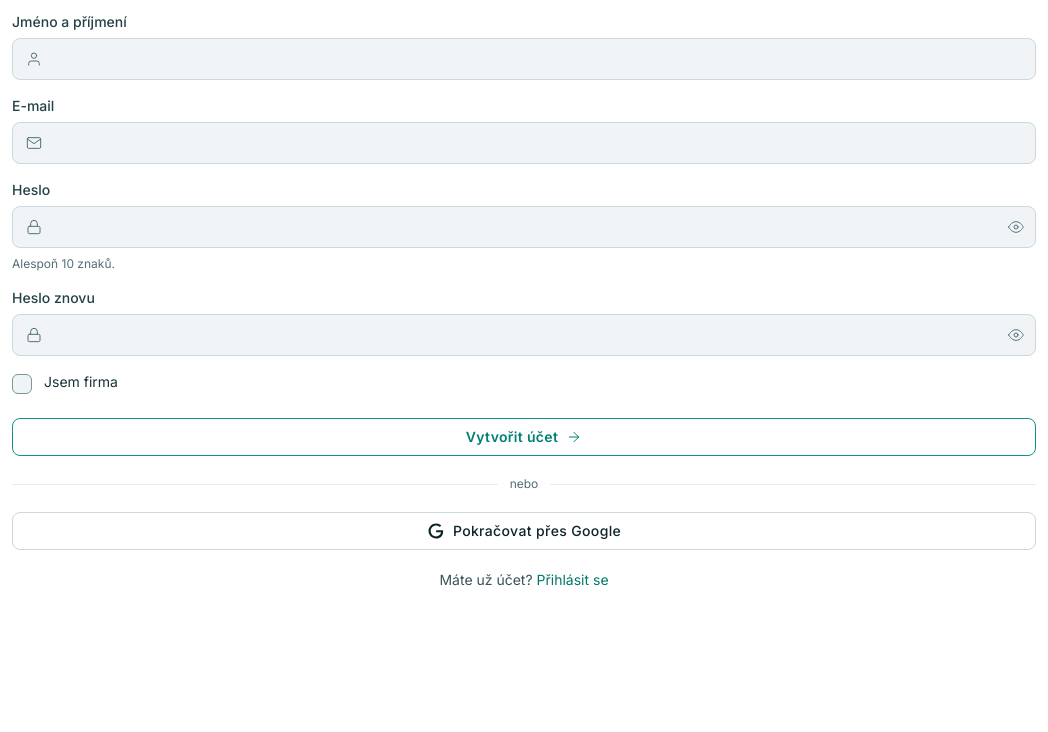
Test: RegisterForm — Jsem firma (T-0162) › maps company.notFound submit reject to the invalid-IČO copy (QA fold F-2)
Click the checkbox labelled "Jsem firma".
click(65, 384)  # box [12, 373, 118, 394]
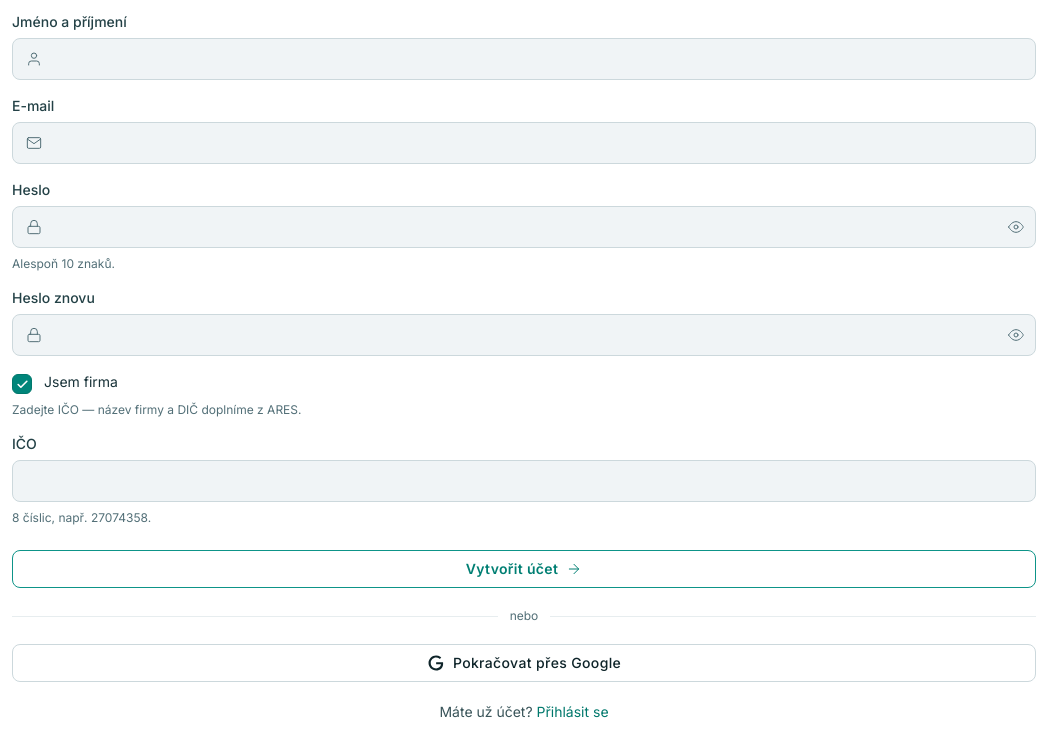
Type "Anna Nováková" into the field labelled "Jméno a příjmení".
click(524, 59); type("Anna Nováková")  # box [12, 38, 1036, 80]
Type "anna@example.cz" into the field labelled "E-mail".
click(524, 143); type("anna@example.cz")  # box [12, 122, 1036, 164]
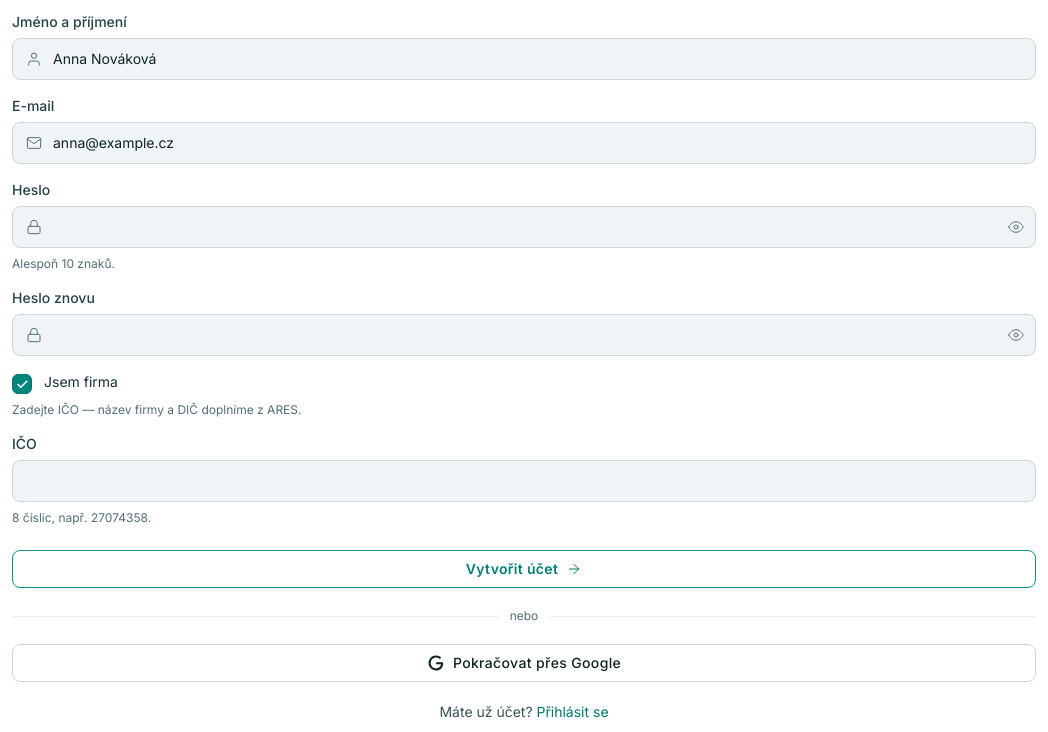
Type "abcd1234567" into the password field labelled "Heslo".
click(524, 227); type("abcd1234567")  # box [12, 206, 1036, 248]
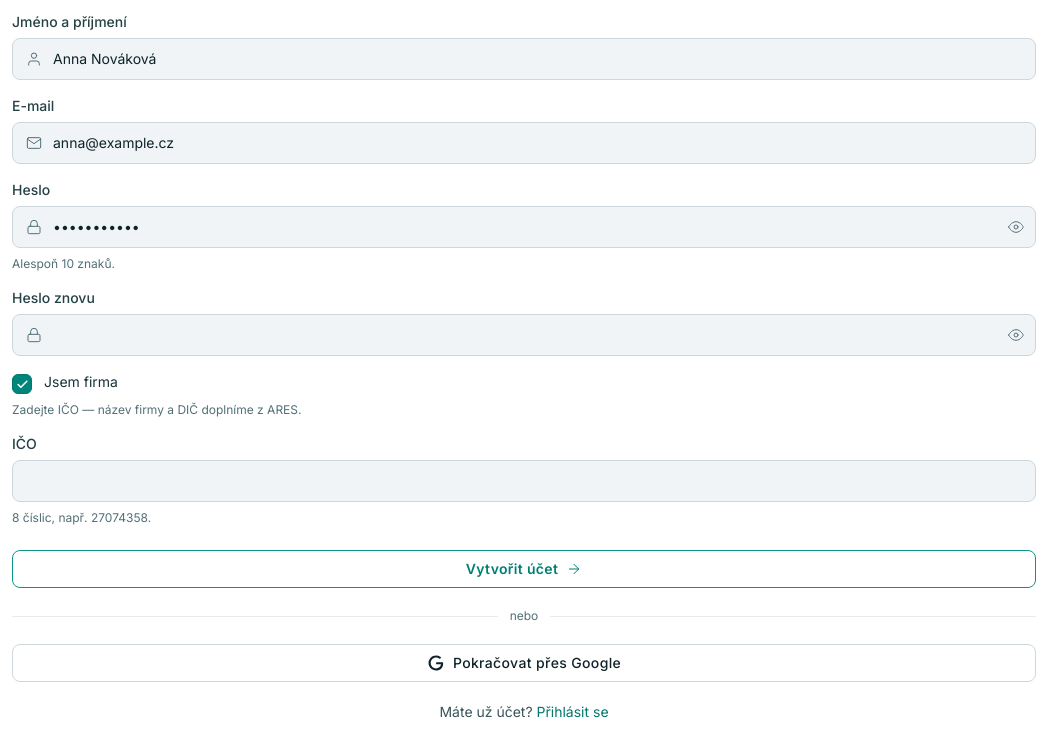
Type "abcd1234567" into the password field labelled "Heslo znovu".
click(524, 335); type("abcd1234567")  # box [12, 314, 1036, 356]
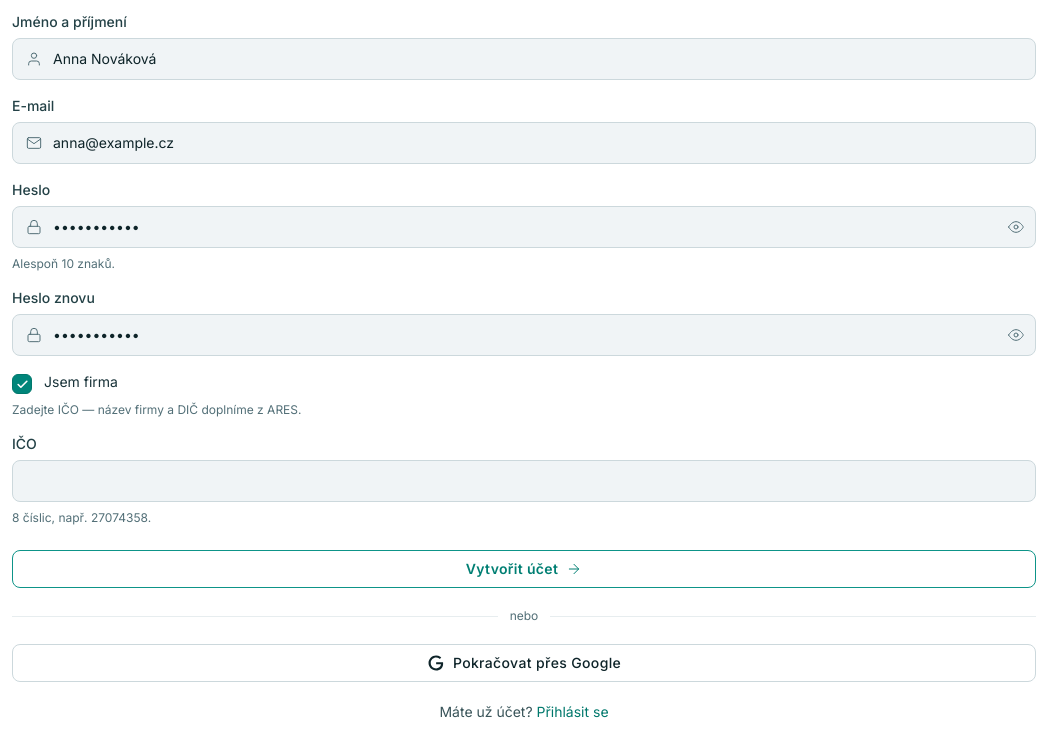
Type "27074358" into the field labelled "IČO".
click(524, 481); type("27074358")  # box [12, 460, 1036, 502]
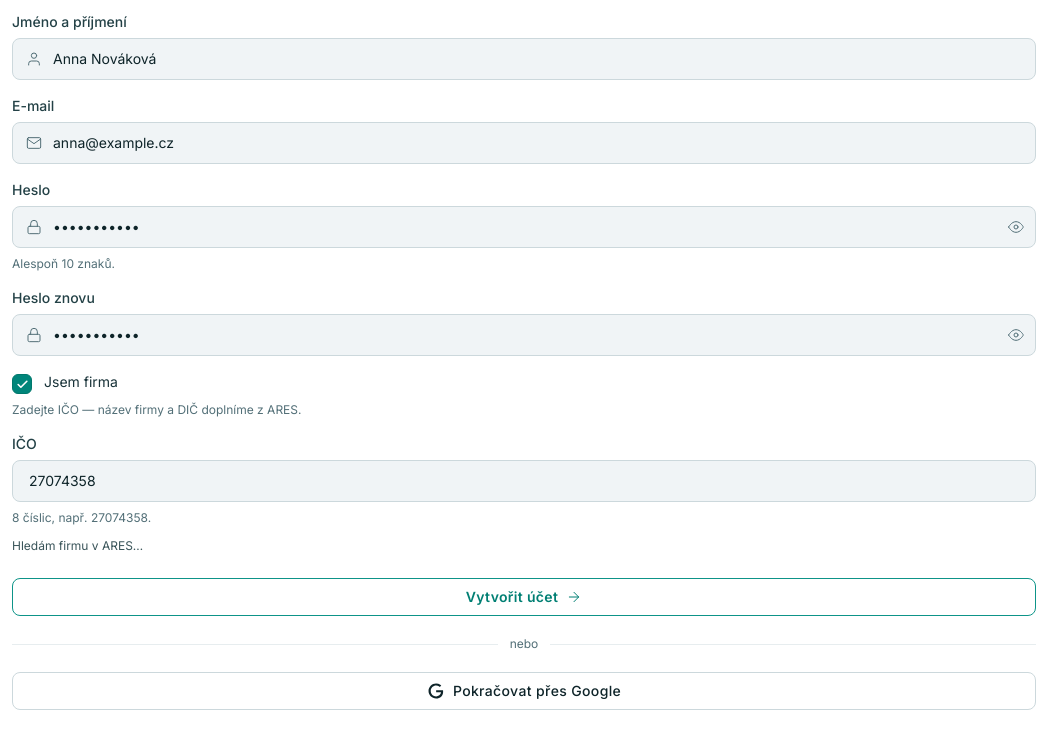
Click the button "Vytvořit účet".
click(524, 597)  # box [12, 578, 1036, 616]
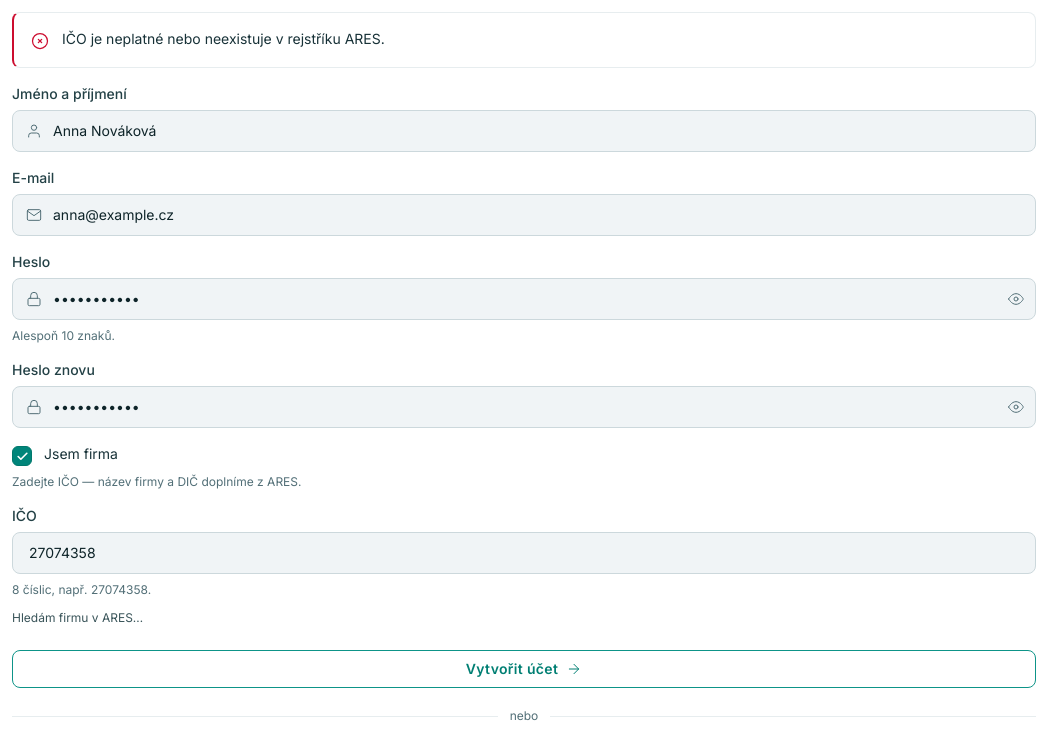
Now the text "IČO je neplatné nebo neexistuje v rejstříku ARES." is shown, box [62, 29, 385, 49]
